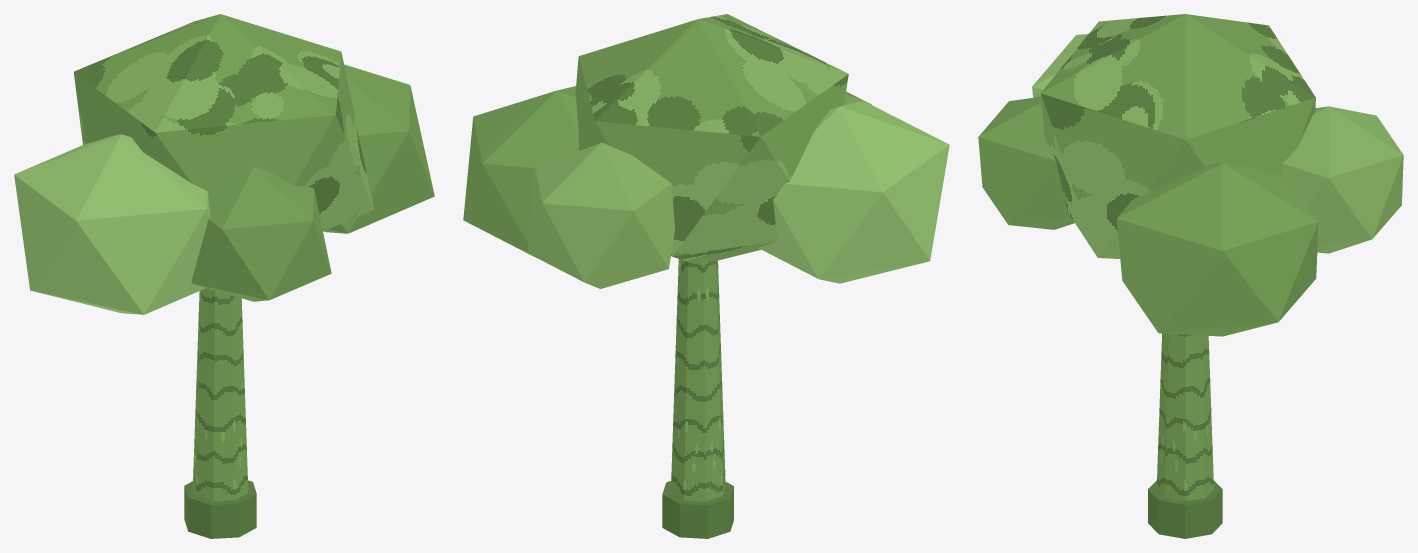
Rendered from broadLeaf.glb.
3 views of the same model, side by side, from view 1: azimuth 30°, elevation 25°; view 2: azimuth 150°, elevation 25°; view 3: azimuth 270°, elevation 25° (orthographic).
Parts seen in each view (by area): view 1: BroadleafTree; view 2: BroadleafTree; view 3: BroadleafTree.
Boxes of the visible parts, box(x1,y1,x2,y2) form: BroadleafTree: box(14, 14, 434, 538); BroadleafTree: box(463, 14, 949, 538); BroadleafTree: box(978, 14, 1403, 538).
Bounding box in the file's own units: 3.89 × 4.51 × 3.41.
1 material, 1 textured.
